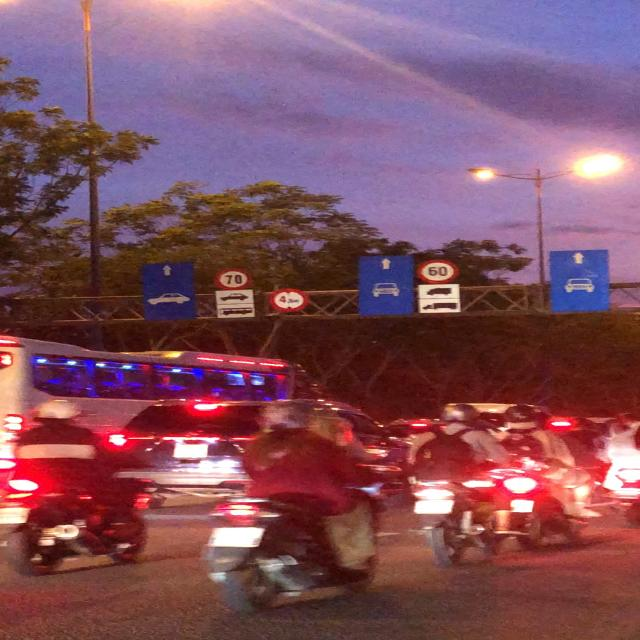Bien bao han che chieu cao: (264, 288, 309, 316)
Bien bao toc do toi da cho phep: (412, 257, 463, 284), (213, 265, 255, 290)
